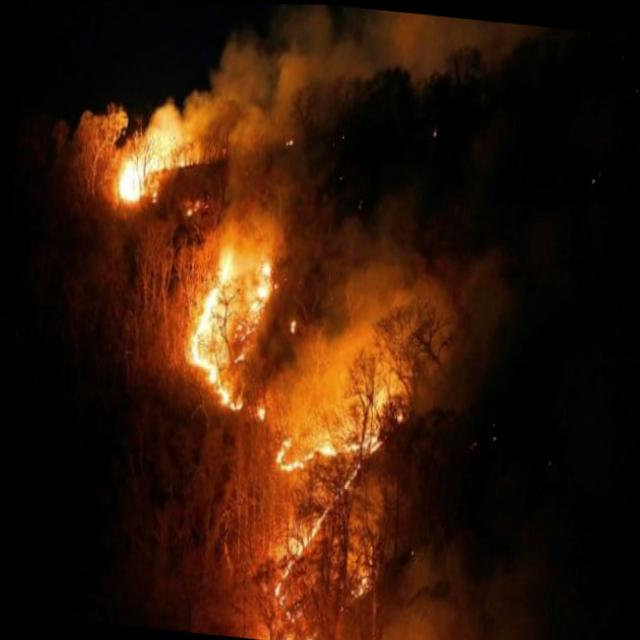fire: (180, 252, 282, 423), (112, 153, 143, 208)
smoke: (146, 3, 534, 440), (365, 480, 544, 640)
